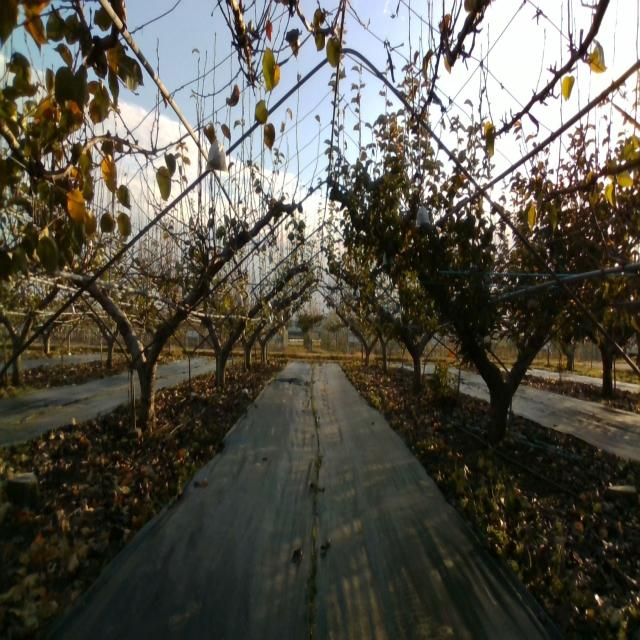pearbags: (205, 135, 228, 173), (414, 201, 431, 228)
